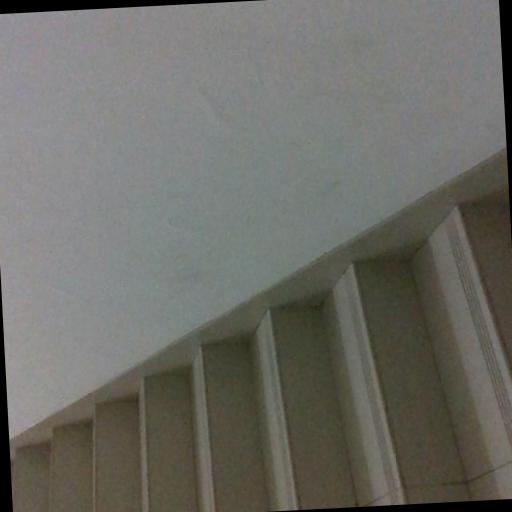stairs: (10, 203, 511, 511)
